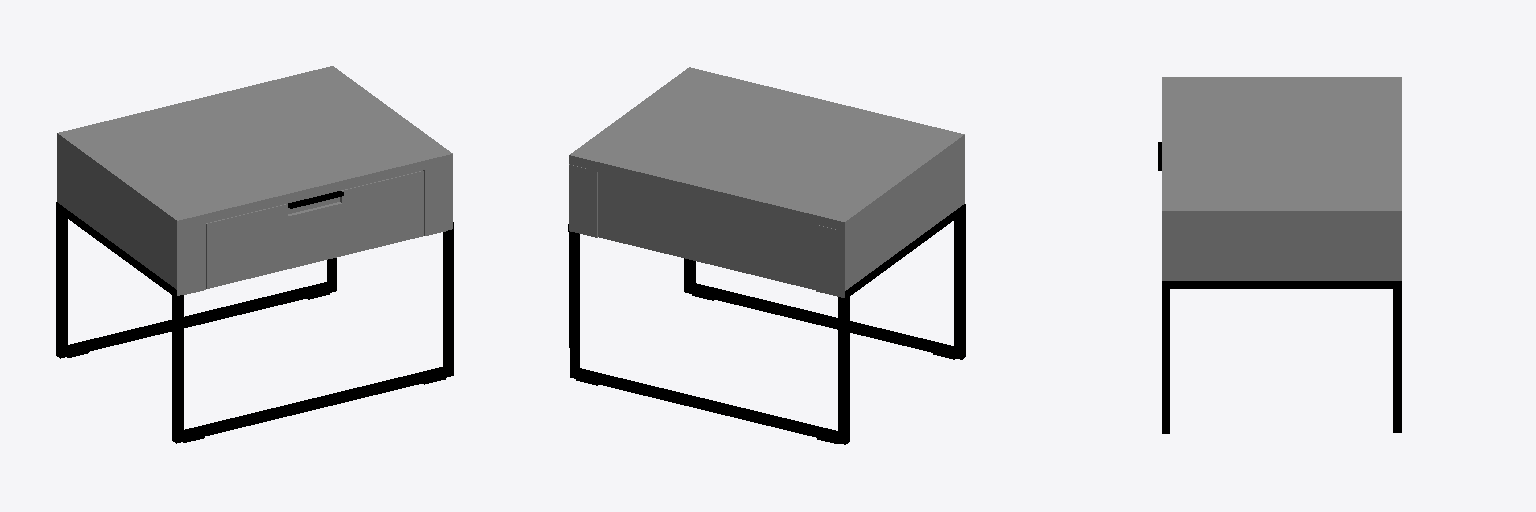
The model's file is desk01.obj.
3 views of the same model, side by side, from view 1: azimuth 30°, elevation 25°; view 2: azimuth 150°, elevation 25°; view 3: azimuth 270°, elevation 25° (orthographic).
Parts seen in each view (by area): view 1: Object.9, Object.12, Object.4, Object.10, Object.8; view 2: Object.9, Object.11, Object.4, Object.10, Object.8; view 3: Object.9, Object.8, Object.4.
Part boxes in pixels (x1,y1,x2,y2): Object.9: (57, 66, 452, 229); Object.12: (206, 171, 423, 288); Object.4: (56, 202, 453, 443); Object.10: (57, 143, 205, 295); Object.8: (423, 163, 452, 235); Object.9: (569, 67, 964, 231); Object.11: (598, 172, 815, 289); Object.4: (568, 204, 965, 444); Object.10: (816, 144, 964, 297); Object.8: (569, 164, 597, 237); Object.9: (1162, 77, 1401, 220); Object.8: (1162, 221, 1401, 280); Object.4: (1162, 281, 1401, 433).
Bounding box in the file's own units: 128 × 98.4 × 97.4.